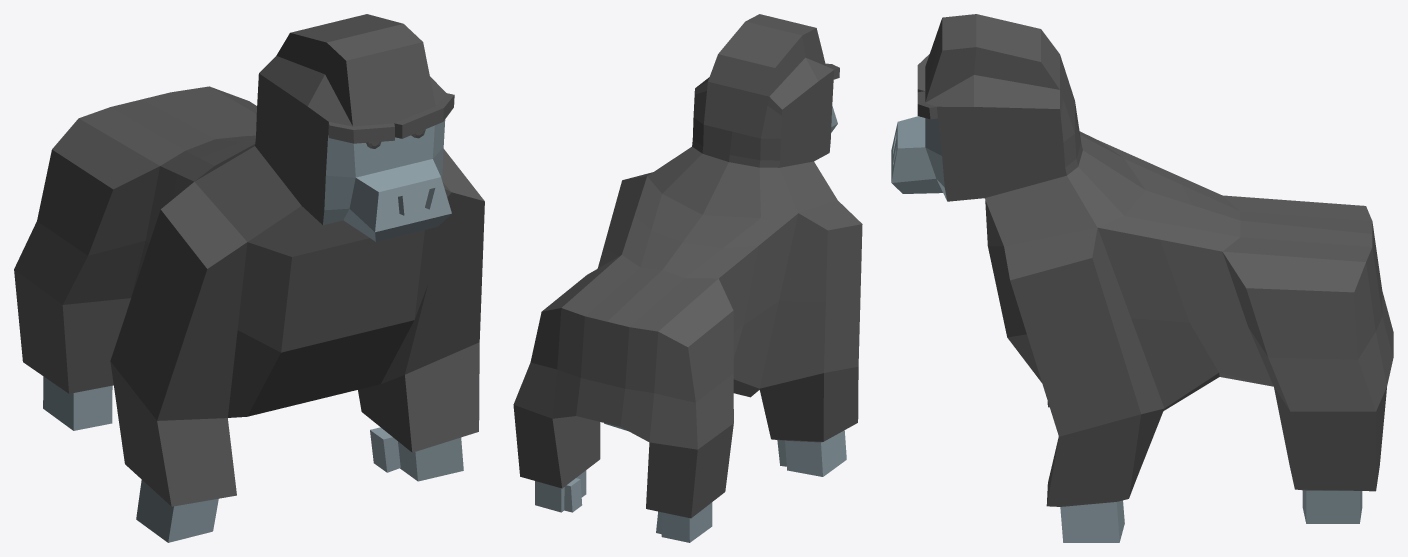
The model's file is gorilla.glb.
The picture shows the model from 3 angles, left to right: view 1: azimuth 30°, elevation 25°; view 2: azimuth 150°, elevation 25°; view 3: azimuth 270°, elevation 25°; orthographic projection. The views are drawn at different scales.
Visible parts, largest first — view 1: node-0; view 2: node-0; view 3: node-0.
Part boxes in pixels (x1,y1,x2,y2): node-0: (14,14,484,542); node-0: (513,14,862,542); node-0: (891,14,1393,542).
Bounding box in the file's own units: 7.88 × 11.91 × 12.06.
